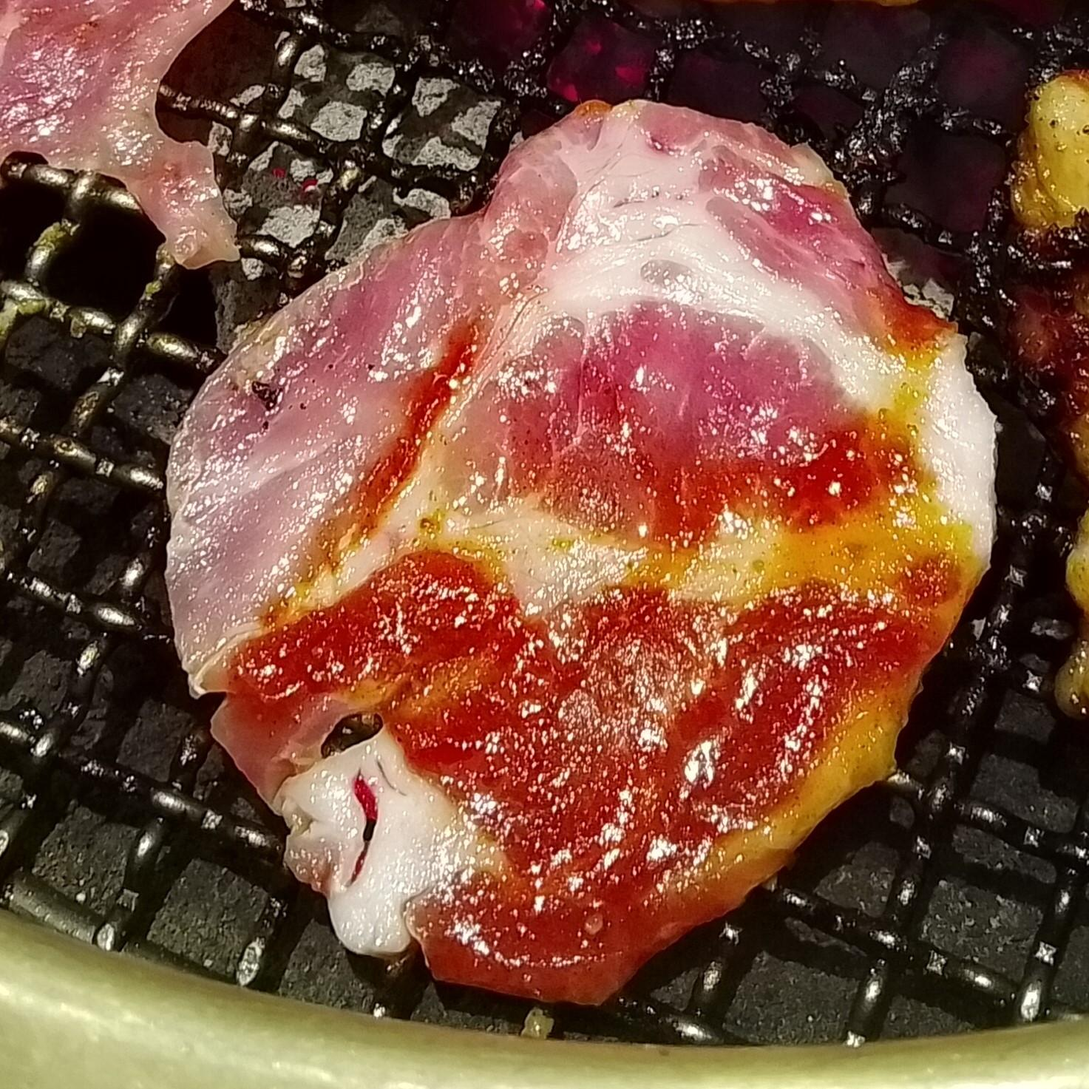Undercooked: (166, 101, 994, 1003), (0, 0, 238, 268)
